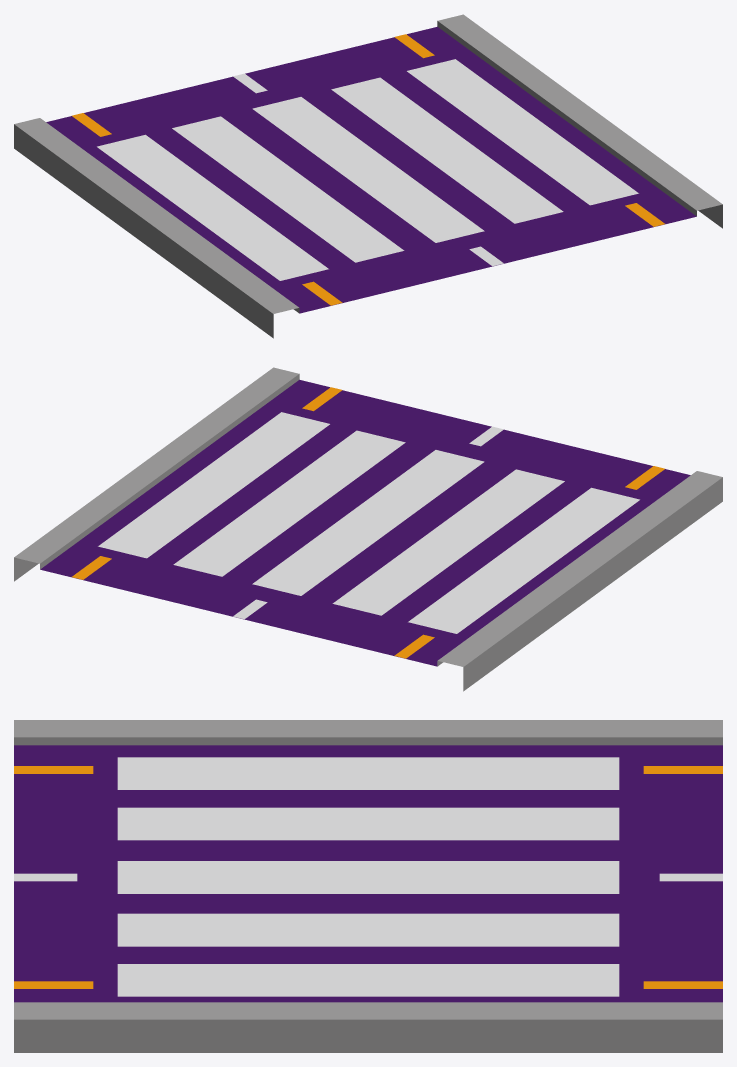
File: Road_C_2_1.fbx
3 renders of one model, top to bottom at view 1: azimuth 30°, elevation 25°; view 2: azimuth 150°, elevation 25°; view 3: azimuth 270°, elevation 25°, orthographic. The views are drawn at different scales.
Parts seen in each view (by area): view 1: Road_C_2_1; view 2: Road_C_2_1; view 3: Road_C_2_1.
Boxes of the visible parts, bbox=[...] form: Road_C_2_1: bbox=[14, 14, 722, 338]; Road_C_2_1: bbox=[14, 367, 722, 691]; Road_C_2_1: bbox=[14, 720, 722, 1052].
Size of the model in its own units: 800 by 41.48 by 800.
